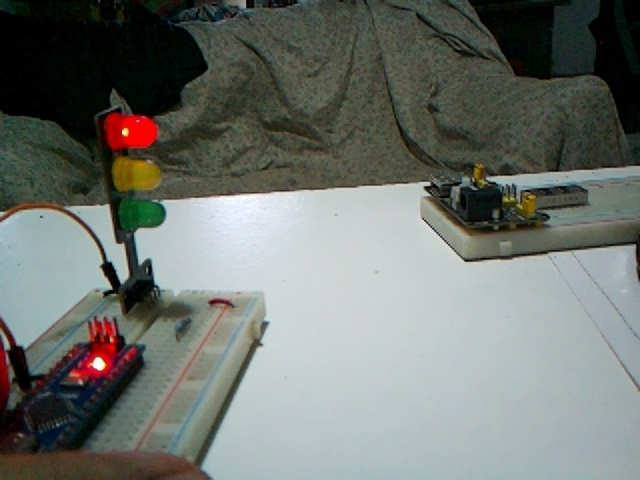traffic_light_red: (96, 105, 165, 310)
